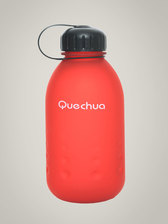other: (31, 19, 129, 204)
